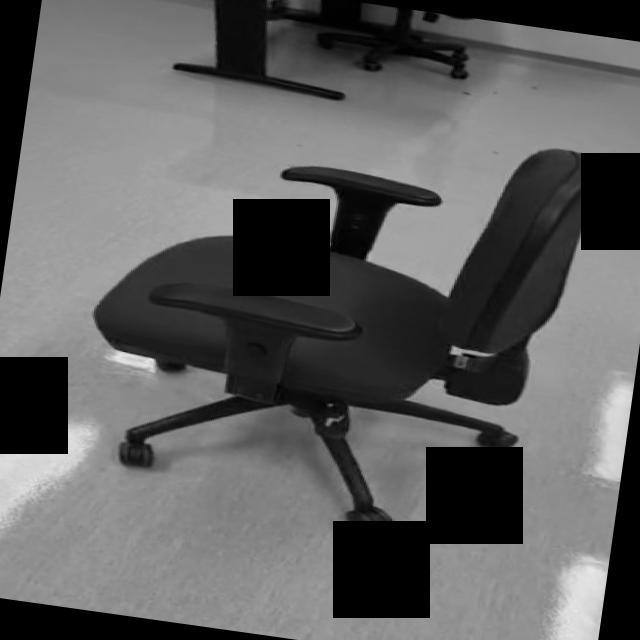chair: (68, 88, 601, 560)
